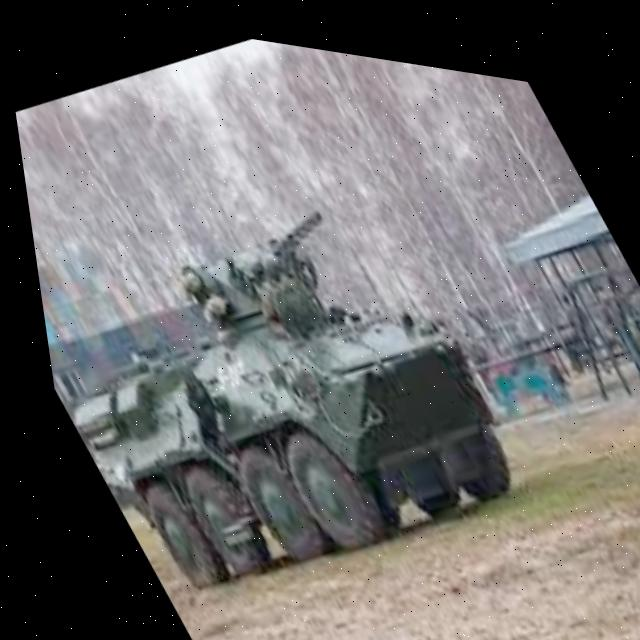MIL_APC: (17, 149, 558, 640)
